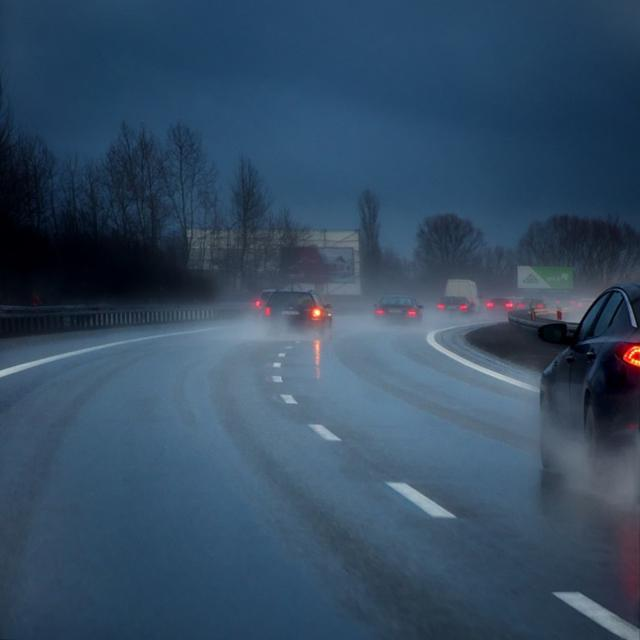car: (532, 284, 638, 502), (255, 287, 332, 337), (373, 295, 423, 322), (447, 277, 479, 312), (436, 293, 472, 319), (517, 294, 547, 314), (486, 294, 512, 312)
